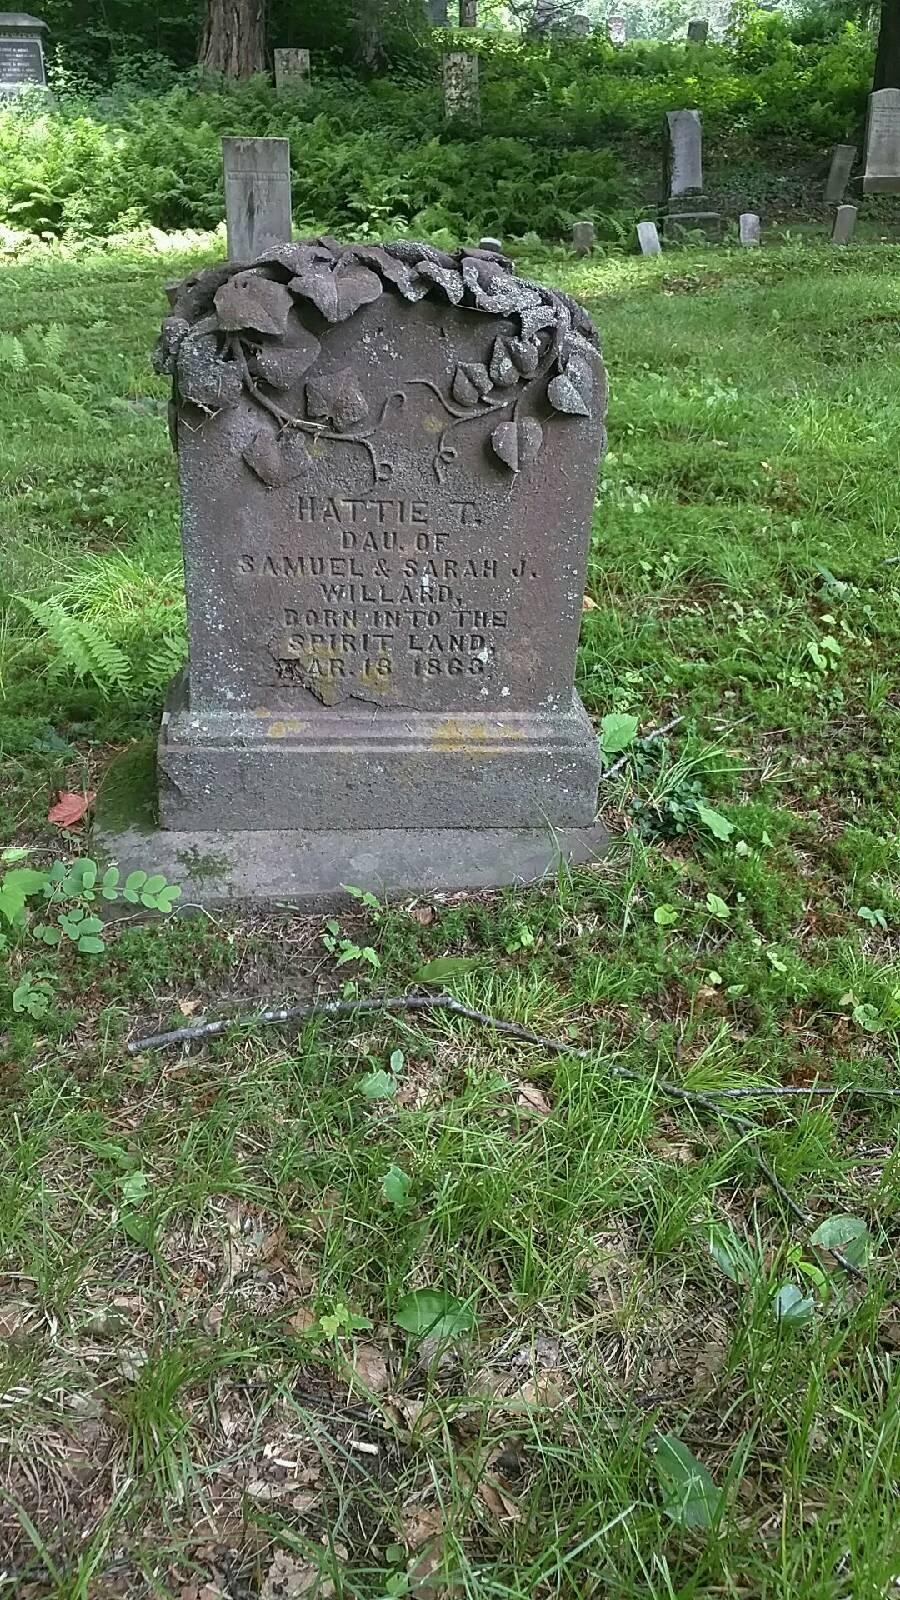upright: (164, 258, 608, 862)
